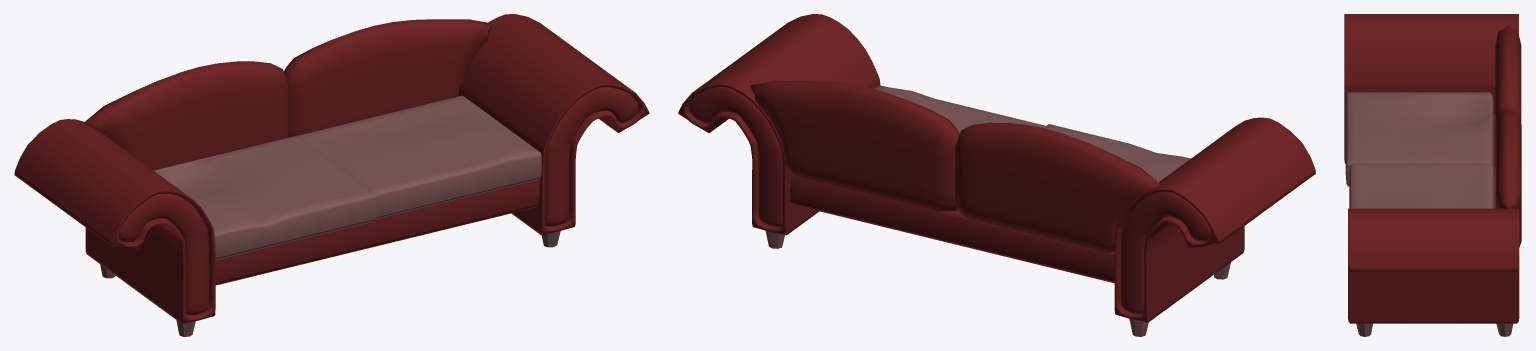
The model's file is Sofa.fbx.
3 renders of one model, left to right at view 1: azimuth 30°, elevation 25°; view 2: azimuth 150°, elevation 25°; view 3: azimuth 270°, elevation 25°, orthographic. The views are drawn at different scales.
Parts seen in each view (by area): view 1: polySurface1; view 2: polySurface1; view 3: polySurface1.
Part boxes in pixels (x1,y1,x2,y2): polySurface1: [14, 14, 649, 336]; polySurface1: [678, 14, 1315, 336]; polySurface1: [1344, 14, 1521, 336].
Size of the model in its own units: 638 by 208 by 203.
